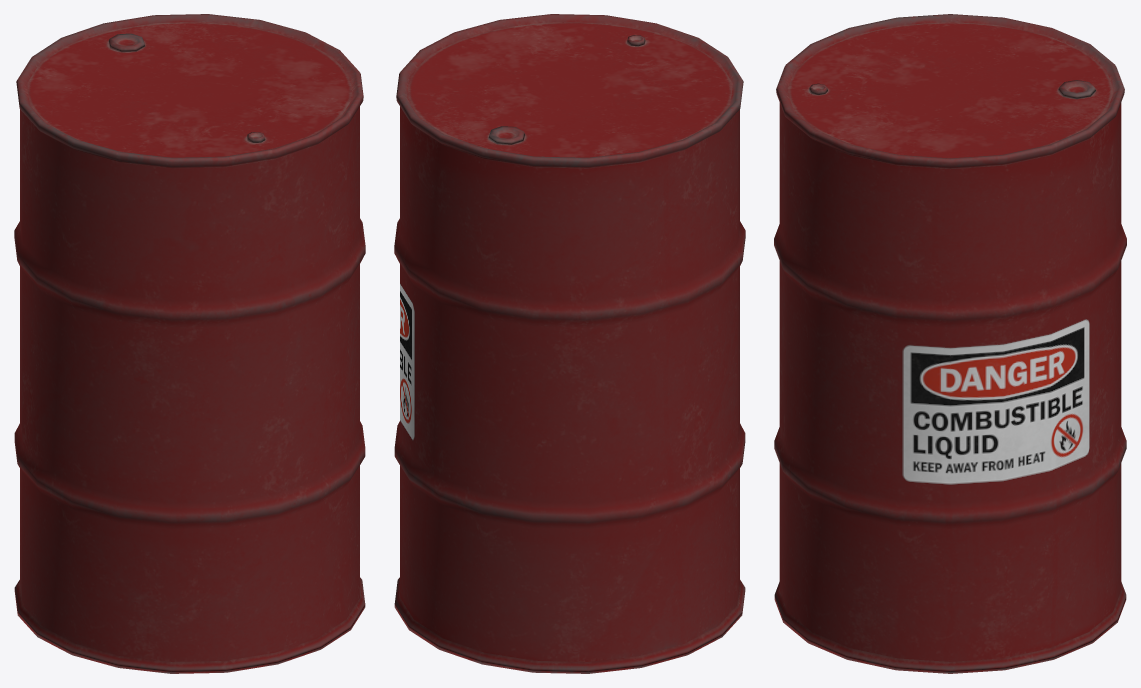
The model's file is oilTank.dc90e72f.glb.
3 views of the same model, side by side, from view 1: azimuth 30°, elevation 25°; view 2: azimuth 150°, elevation 25°; view 3: azimuth 270°, elevation 25° (orthographic).
Visible parts, largest first — view 1: Object_5; view 2: Object_5; view 3: Object_5.
Boxes of the visible parts, x1,y1,x2,y2 form: Object_5: [14, 14, 365, 673]; Object_5: [394, 14, 745, 673]; Object_5: [774, 14, 1126, 673].
Size of the model in its own units: 23.95 by 38.4 by 23.95.
Materials: 1 (1 with a texture image).
